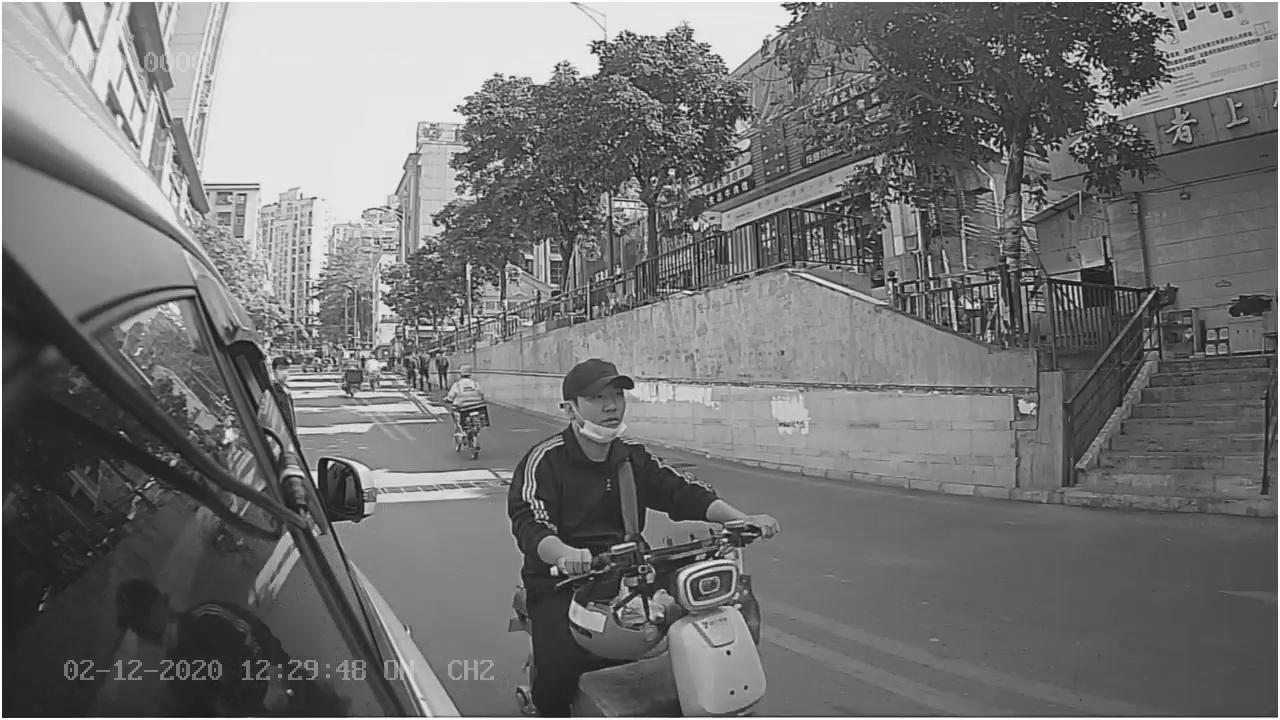person: (507, 361, 696, 570)
